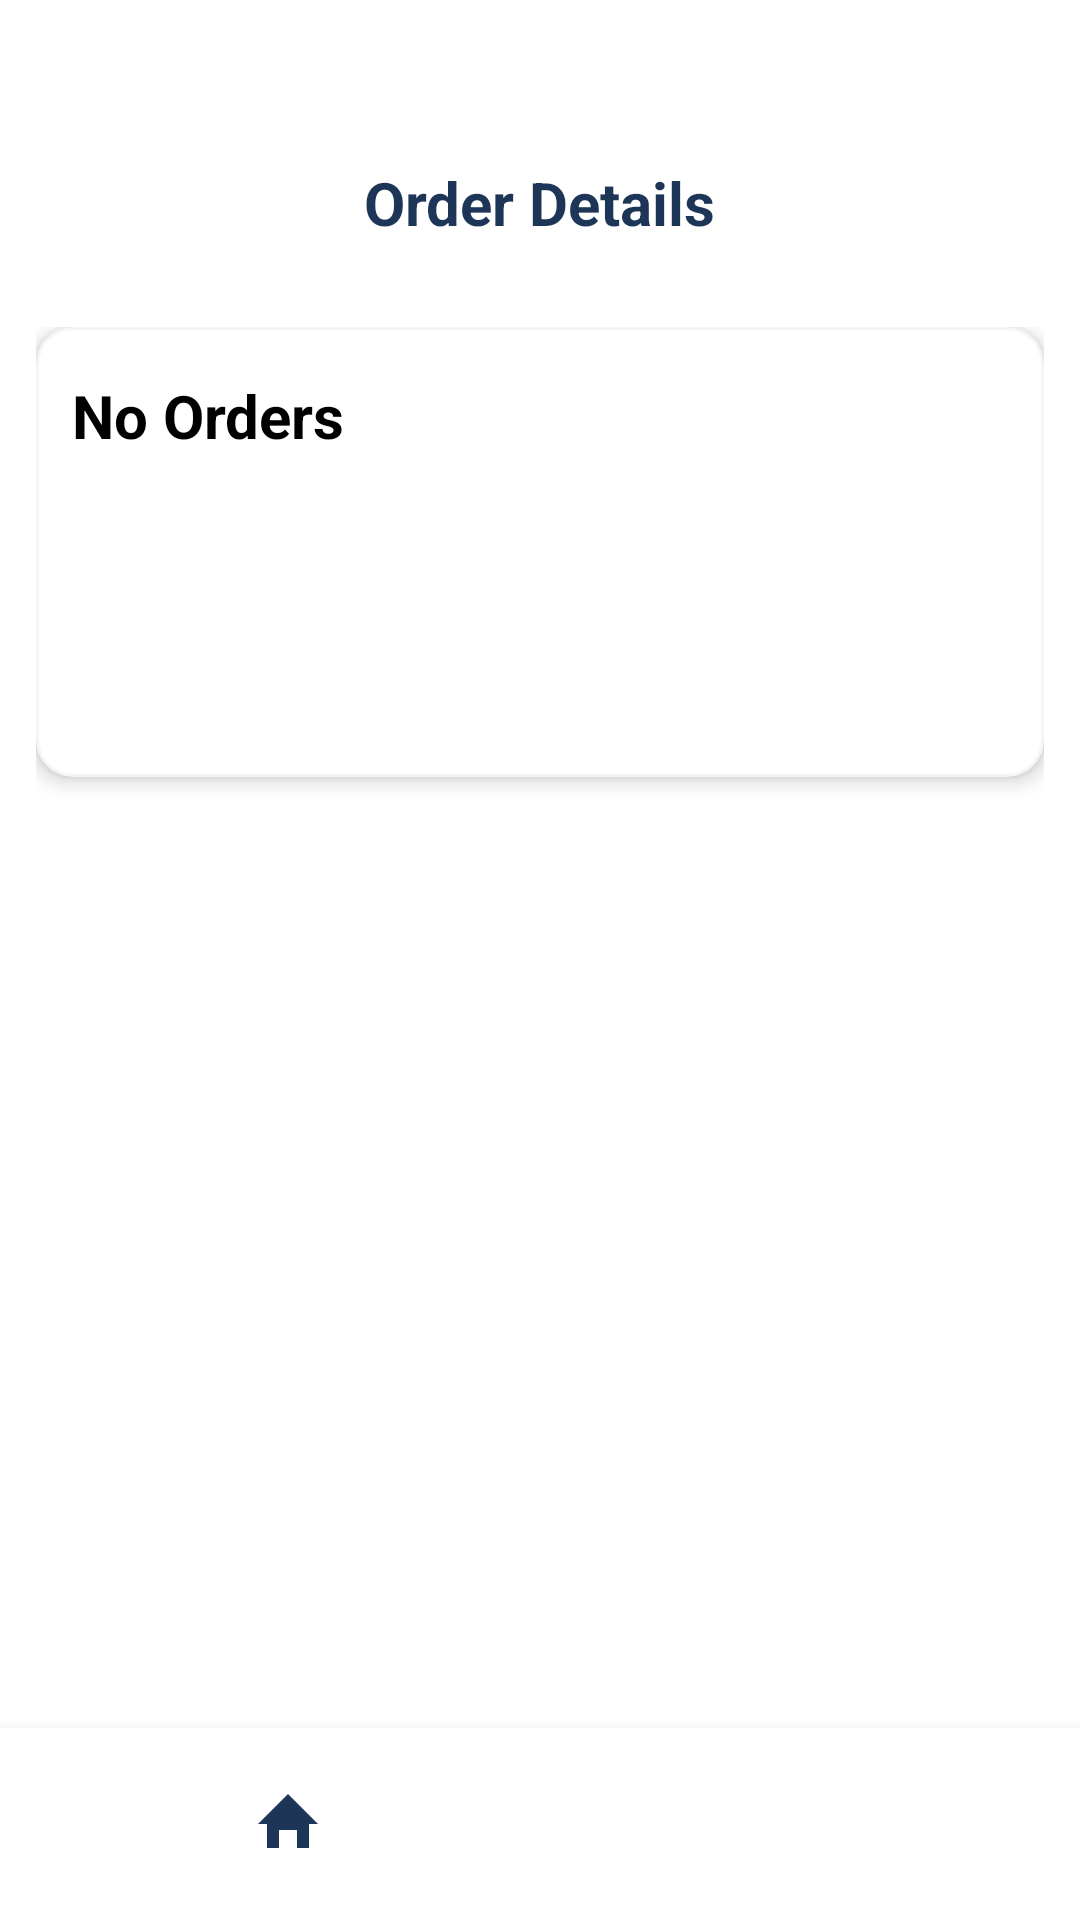

Locate icon controls on the screen. Image size 1080 x 1920, boxes as (left=x1, top=y1, right=x2, bottom=y2).
Home: (left=258, top=1794, right=318, bottom=1848)
